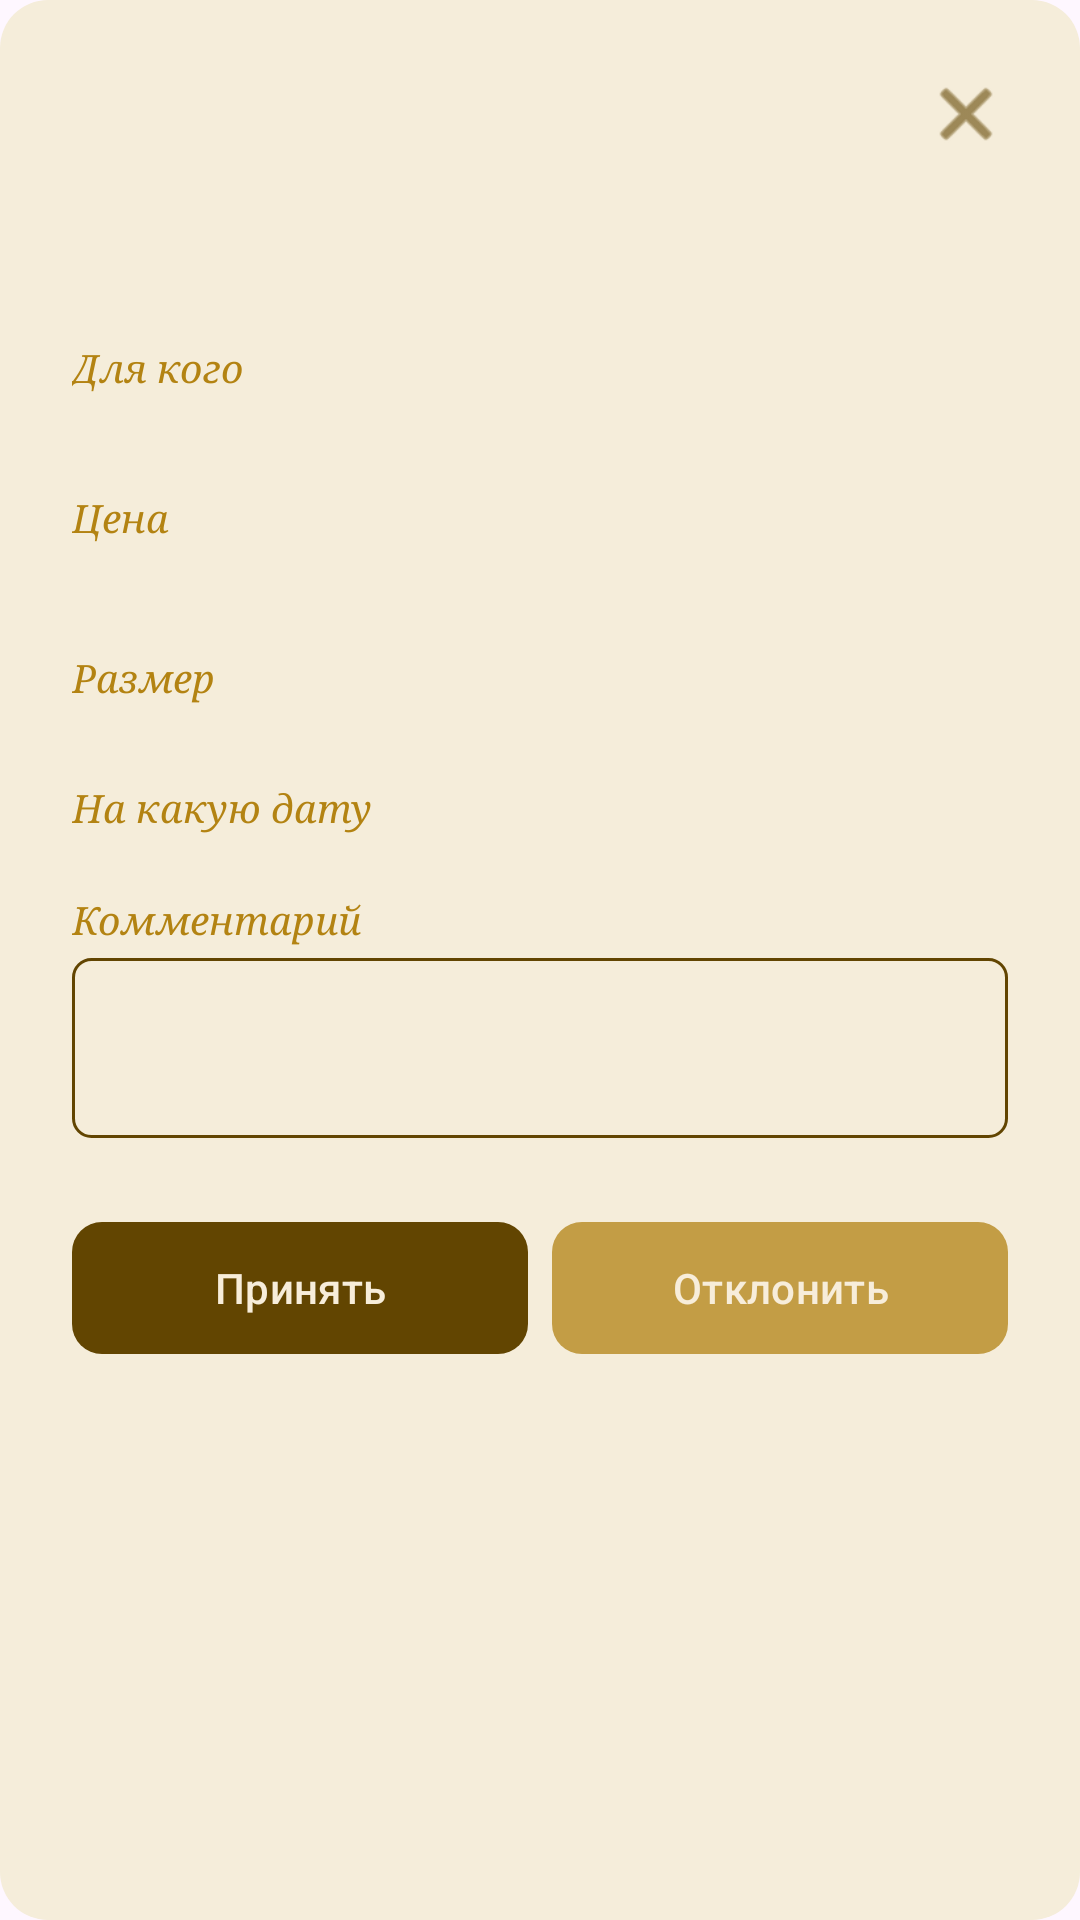

Point at icon controls on the screen. Image size 1080w x 1920h, points as (x=x, y=y).
Закрыть: (x=966, y=114)
